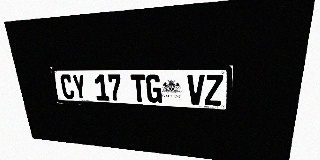1: (93, 74, 109, 101)
7: (107, 74, 123, 101)
C: (59, 74, 75, 99)
G: (146, 75, 162, 103)
T: (130, 74, 147, 102)
V: (187, 75, 204, 105)
Y: (71, 74, 87, 100)
Z: (204, 75, 223, 106)
